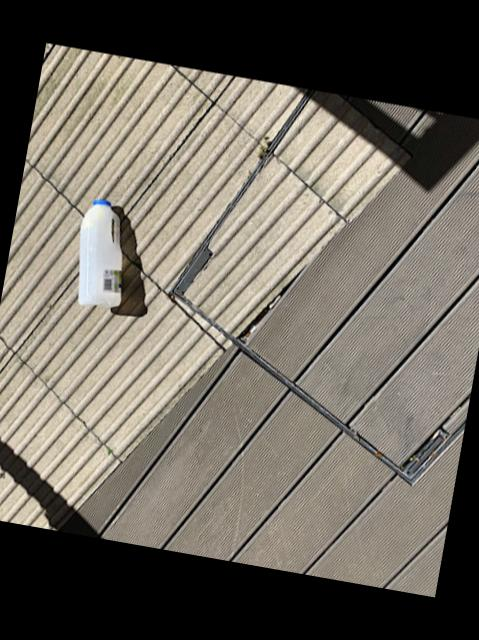plastic: (77, 201, 121, 308)
